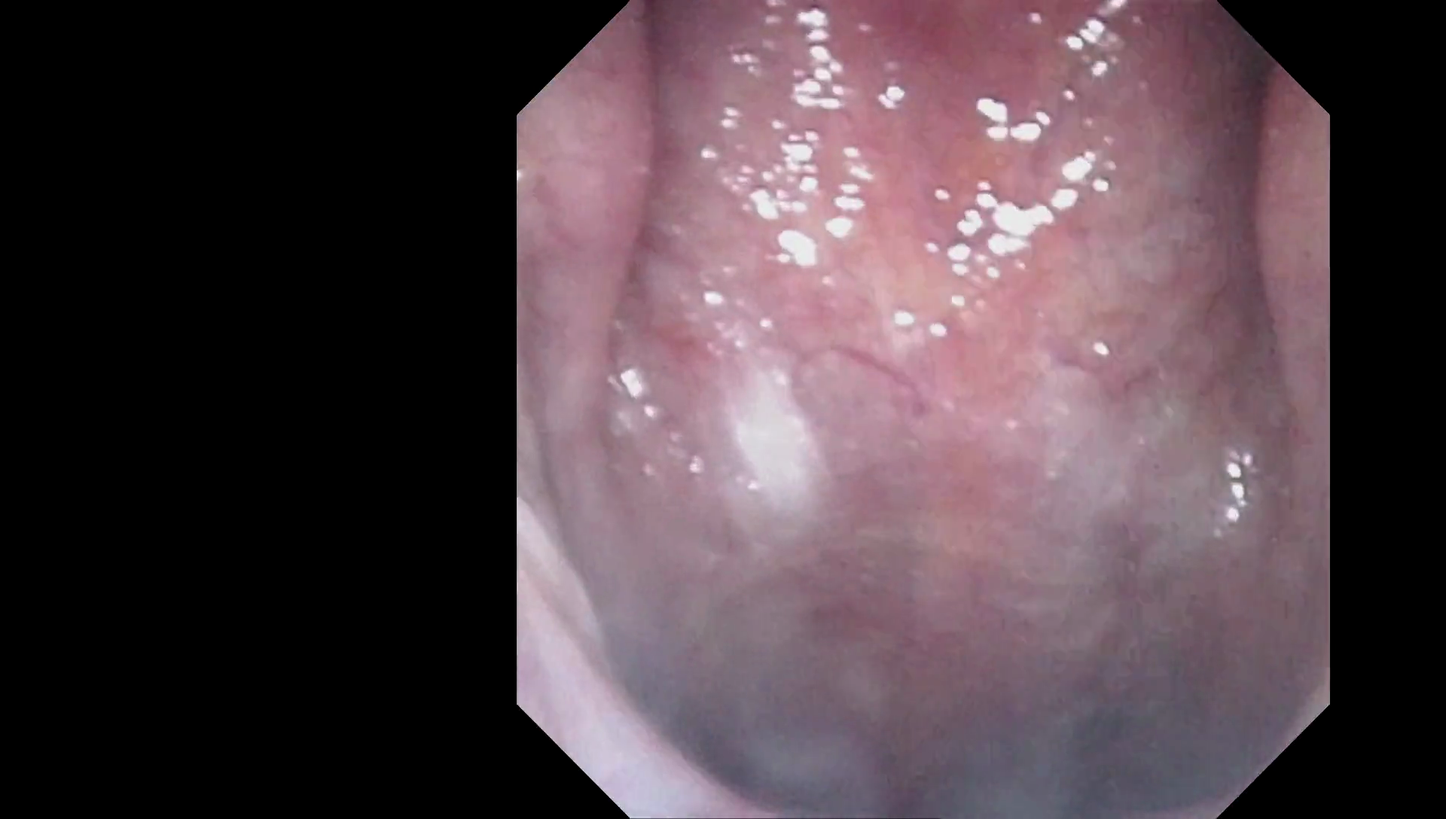next: (822, 641, 1264, 819)
